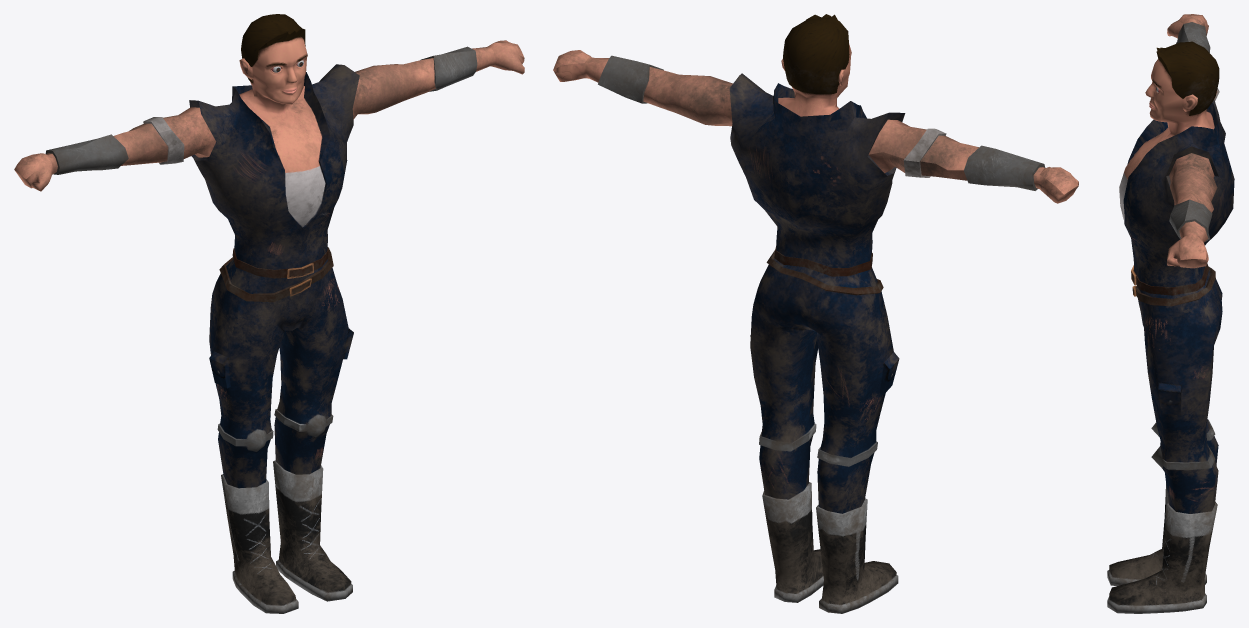
Rendered from Personaje.obj.
3 renders of one model, left to right at view 1: azimuth 30°, elevation 25°; view 2: azimuth 150°, elevation 25°; view 3: azimuth 270°, elevation 25°, orthographic. The views are drawn at different scales.
Visible parts, largest first — view 1: Personaje; view 2: Personaje; view 3: Personaje.
Part boxes in pixels (x1,y1,x2,y2): Personaje: (14,14,524,613); Personaje: (553,14,1078,613); Personaje: (1107,14,1234,613).
Size of the model in its own units: 9.07 by 9.67 by 2.04.
Materials: 2 (2 with a texture image).
